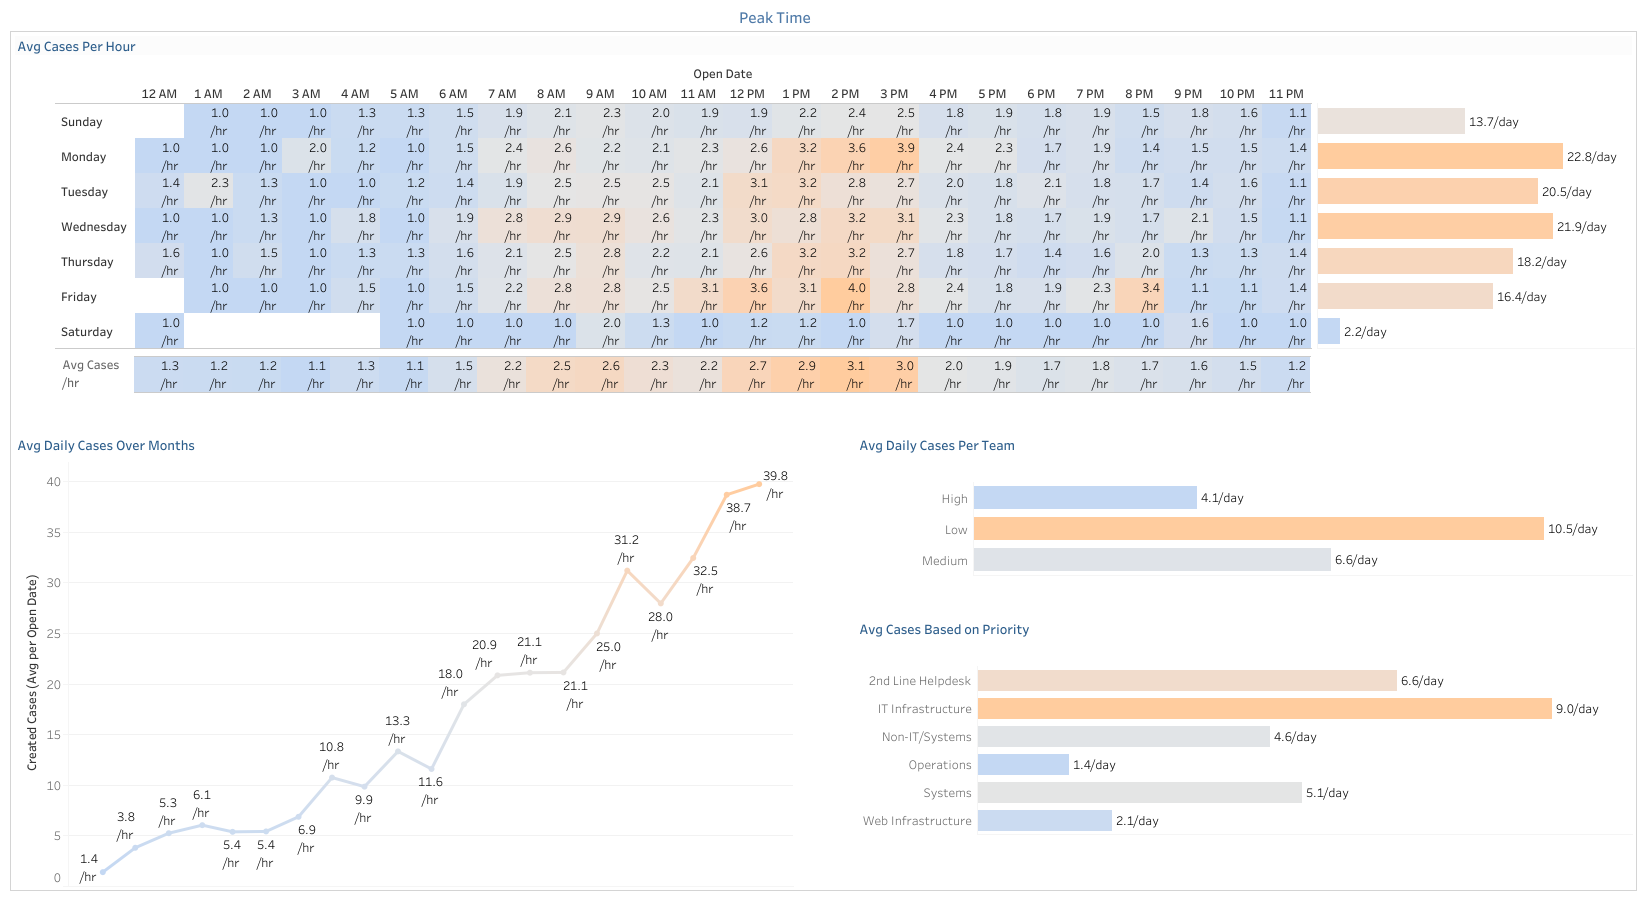

What the dashboard file says about the page in this screenshot:
{"tool":"tableau","page":{"name":"Cases at Peak Times","canvas":[1650,900],"ordinal":0},"visuals":[{"type":"text","box":[697,9,156,15]},{"type":"text","box":[11,32,1625,27]},{"type":"worksheet","title":"Open Peak","mark":"Square","rows":["Open Date"],"cols":["Open Date"],"box":[11,59,1625,294]},{"type":"worksheet","title":"Open Peak - Avg/day","mark":"Bar","rows":["Open Date"],"cols":["Calculation_1875749246449610754"],"box":[1317,103,317,300]},{"type":"blank","box":[11,353,1625,78]},{"type":"text","box":[60,355,73,36]},{"type":"worksheet","title":"Open Peak - Avg Hr","mark":"Square","cols":["Open Date"],"box":[134,356,1453,92]},{"type":"text","box":[11,431,786,27]},{"type":"blank","box":[797,431,56,459]},{"type":"text","box":[853,431,783,27]},{"type":"worksheet","title":"Open Peak - Avg Hr (2)","mark":"Line","rows":["Calculation_1875749246449610754"],"cols":["Open Date"],"box":[11,458,786,432]},{"type":"worksheet","title":"Open Peak - Avg/day (3)","mark":"Bar","rows":["Case Priority"],"cols":["Calculation_1875749246449610754"],"box":[853,458,783,157]},{"type":"text","box":[853,615,783,27]},{"type":"worksheet","title":"Open Peak - Avg/day (2)","mark":"Bar","rows":["Agent Group"],"cols":["Calculation_1875749246449610754"],"box":[853,642,783,219]}]}

Visuals, with their boxes in screenshot pixels (x1, y1, x2, y2), scaled from the page's 1650x900 canvas onto the 1649x899 screenshot:
text: {"x1": 697, "y1": 9, "x2": 852, "y2": 24}
text: {"x1": 11, "y1": 32, "x2": 1635, "y2": 59}
"Open Peak" worksheet (Square marks): {"x1": 11, "y1": 59, "x2": 1635, "y2": 353}
"Open Peak - Avg/day" worksheet (Bar marks): {"x1": 1316, "y1": 103, "x2": 1633, "y2": 403}
blank: {"x1": 11, "y1": 353, "x2": 1635, "y2": 431}
text: {"x1": 60, "y1": 355, "x2": 133, "y2": 391}
"Open Peak - Avg Hr" worksheet (Square marks): {"x1": 134, "y1": 356, "x2": 1586, "y2": 448}
text: {"x1": 11, "y1": 431, "x2": 797, "y2": 457}
blank: {"x1": 797, "y1": 431, "x2": 852, "y2": 889}
text: {"x1": 852, "y1": 431, "x2": 1635, "y2": 457}
"Open Peak - Avg Hr (2)" worksheet (Line marks): {"x1": 11, "y1": 457, "x2": 797, "y2": 889}
"Open Peak - Avg/day (3)" worksheet (Bar marks): {"x1": 852, "y1": 457, "x2": 1635, "y2": 614}
text: {"x1": 852, "y1": 614, "x2": 1635, "y2": 641}
"Open Peak - Avg/day (2)" worksheet (Bar marks): {"x1": 852, "y1": 641, "x2": 1635, "y2": 860}
